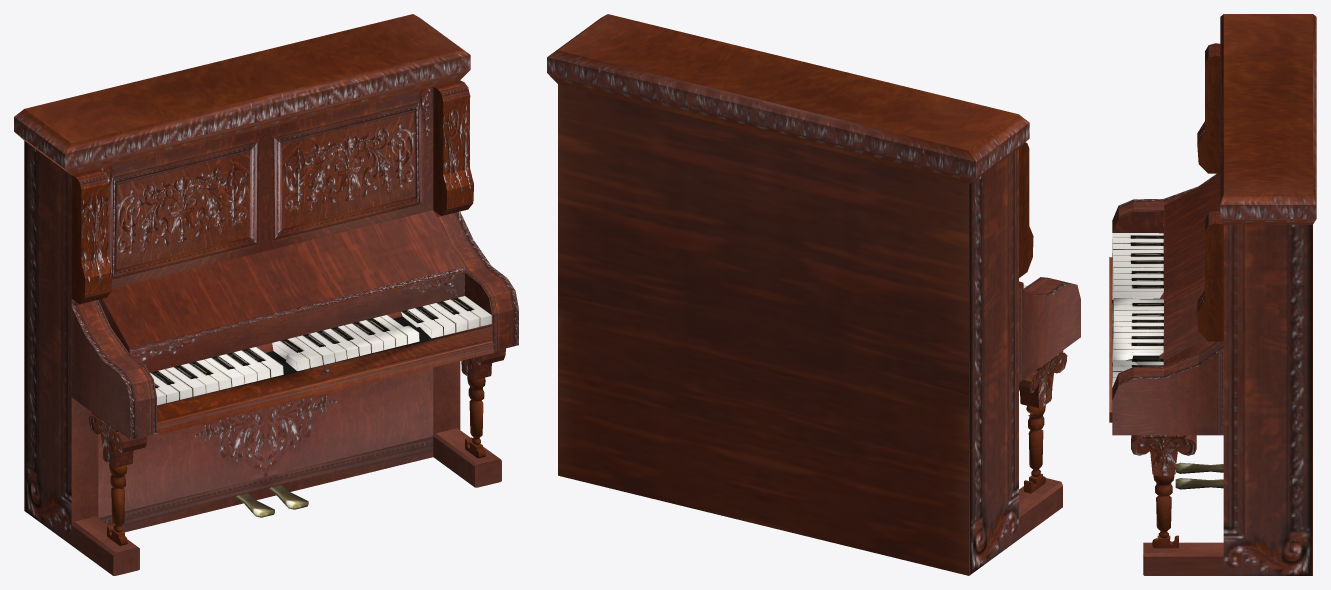
Rendered from Piano_Broken.fbx.
The picture shows the model from 3 angles, left to right: view 1: azimuth 30°, elevation 25°; view 2: azimuth 150°, elevation 25°; view 3: azimuth 270°, elevation 25°; orthographic projection. The views are drawn at different scales.
Visible parts, largest first — view 1: Piano; view 2: Piano; view 3: Piano.
Part boxes in pixels (box(x1,y1,x2,y2)): Piano: box(14, 14, 518, 575); Piano: box(547, 14, 1080, 575); Piano: box(1109, 14, 1316, 575).
Bounding box in the file's own units: 1834 × 1738 × 854.
